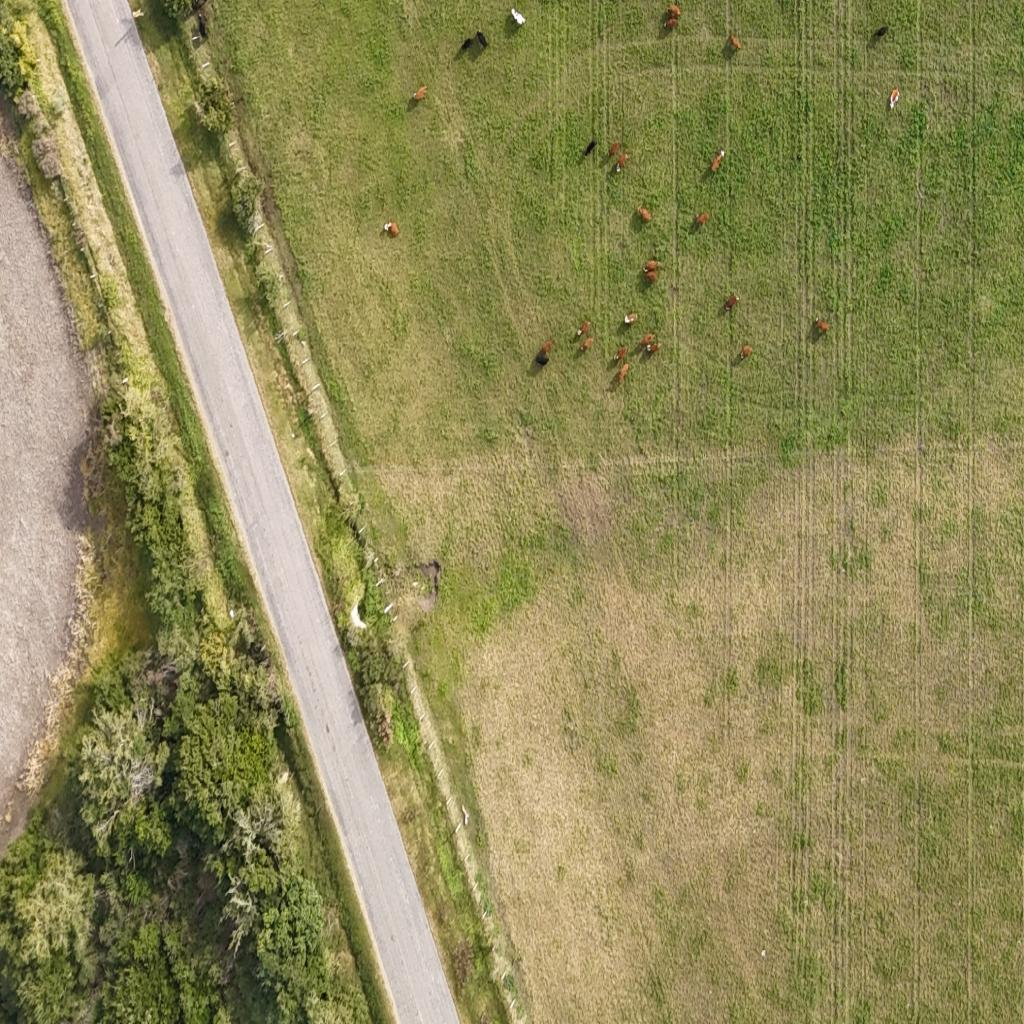cow: (648, 0, 684, 35), (190, 2, 211, 38), (504, 0, 525, 35), (608, 141, 629, 175), (459, 30, 487, 55), (531, 340, 552, 369), (575, 320, 592, 352), (612, 338, 628, 371), (616, 362, 635, 389), (637, 334, 657, 357), (642, 259, 660, 284), (708, 152, 724, 178), (736, 342, 754, 364), (726, 29, 741, 55), (582, 137, 598, 159), (724, 293, 740, 314), (870, 24, 888, 42), (814, 317, 830, 337), (888, 86, 900, 112), (410, 87, 427, 104), (695, 211, 711, 229), (383, 220, 399, 237), (637, 206, 651, 224), (129, 6, 143, 22), (624, 312, 638, 327)
